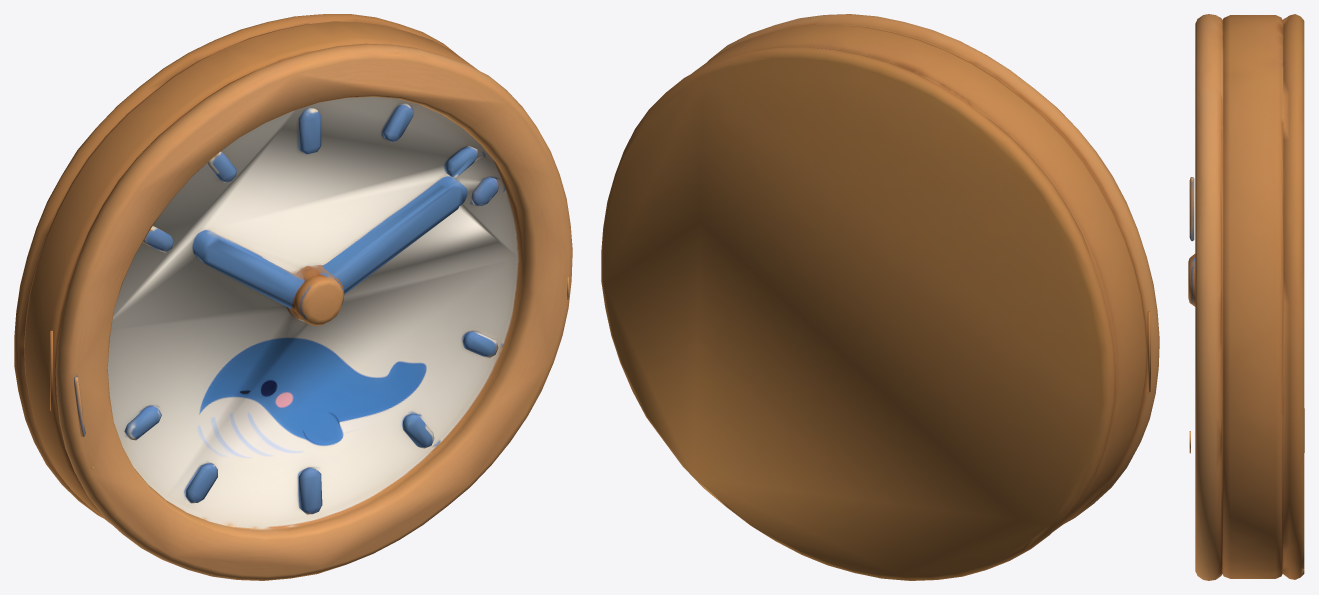
File: wall-clock.glb
The picture shows the model from 3 angles, left to right: view 1: azimuth 30°, elevation 25°; view 2: azimuth 150°, elevation 25°; view 3: azimuth 270°, elevation 25°; orthographic projection.
Parts seen in each view (by area): view 1: 鲸鱼壁钟静态总成; view 2: 鲸鱼壁钟静态总成; view 3: 鲸鱼壁钟静态总成.
Part boxes in pixels (x1,y1,x2,y2): 鲸鱼壁钟静态总成: (14, 14, 572, 580); 鲸鱼壁钟静态总成: (601, 14, 1159, 580); 鲸鱼壁钟静态总成: (1188, 14, 1304, 580).
Size of the model in its own units: 0.44 by 0.4263 by 0.0879.
Materials: 1 (1 with a texture image).
